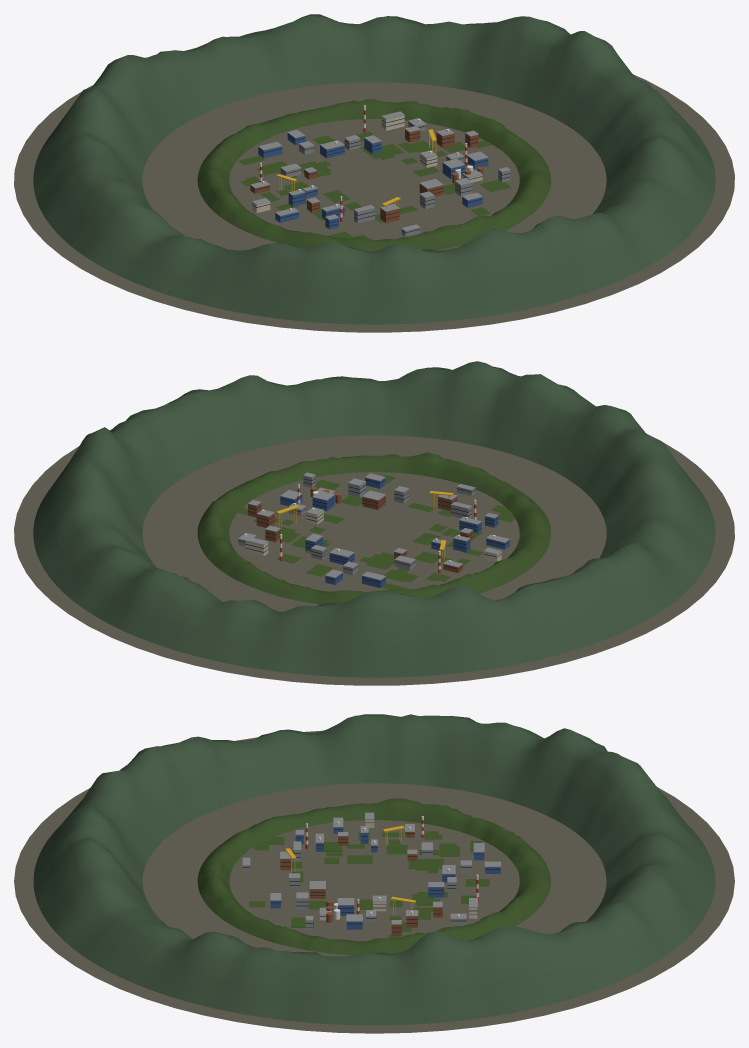
The model's file is factory_detail.glb.
3 views of the same model, one above another, from view 1: azimuth 30°, elevation 25°; view 2: azimuth 150°, elevation 25°; view 3: azimuth 270°, elevation 25° (orthographic).
Parts seen in each view (by area): view 1: Far_mountain, Far_ground, Far_hill, Far_grey, Far_grass, Far_blue, Far_rust, Far_window, Far_cream; view 2: Far_mountain, Far_ground, Far_hill, Far_grey, Far_grass, Far_blue, Far_rust, Far_window, Far_cream; view 3: Far_mountain, Far_ground, Far_hill, Far_grass, Far_grey, Far_blue, Far_rust, Far_window.
Boxes of the visible parts, bbox=[...] form: Far_mountain: bbox=[33, 14, 715, 324]; Far_ground: bbox=[14, 48, 734, 332]; Far_hill: bbox=[197, 99, 551, 251]; Far_grey: bbox=[250, 111, 510, 236]; Far_grass: bbox=[238, 131, 511, 238]; Far_blue: bbox=[258, 133, 488, 229]; Far_rust: bbox=[250, 129, 483, 222]; Far_window: bbox=[250, 118, 510, 232]; Far_cream: bbox=[252, 115, 482, 212]; Far_mountain: bbox=[33, 361, 715, 677]; Far_ground: bbox=[14, 381, 734, 685]; Far_hill: bbox=[197, 452, 550, 604]; Far_grey: bbox=[238, 472, 509, 580]; Far_grass: bbox=[238, 474, 515, 589]; Far_blue: bbox=[280, 478, 509, 587]; Far_rust: bbox=[248, 487, 473, 572]; Far_window: bbox=[238, 478, 509, 582]; Far_cream: bbox=[245, 492, 501, 562]; Far_mountain: bbox=[33, 714, 715, 1025]; Far_ground: bbox=[14, 730, 734, 1033]; Far_hill: bbox=[197, 798, 550, 955]; Far_grass: bbox=[249, 831, 489, 938]; Far_grey: bbox=[242, 812, 500, 930]; Far_blue: bbox=[270, 827, 500, 929]; Far_rust: bbox=[280, 832, 442, 935]; Far_window: bbox=[242, 822, 500, 932].
Bounding box in the file's own units: 1120 × 117 × 1120.
